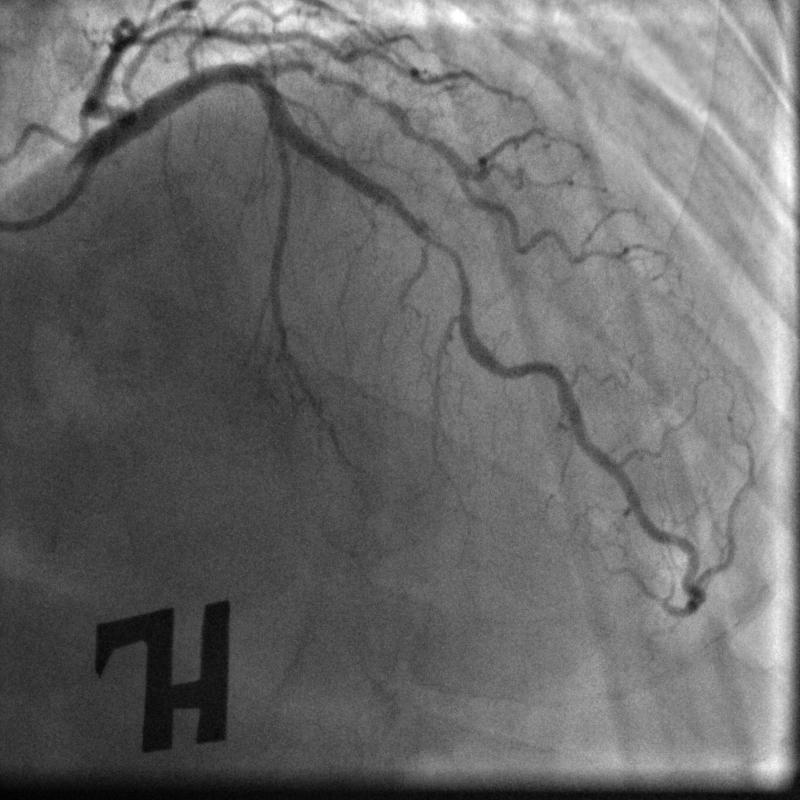Stenosis: (425, 227, 471, 305)
